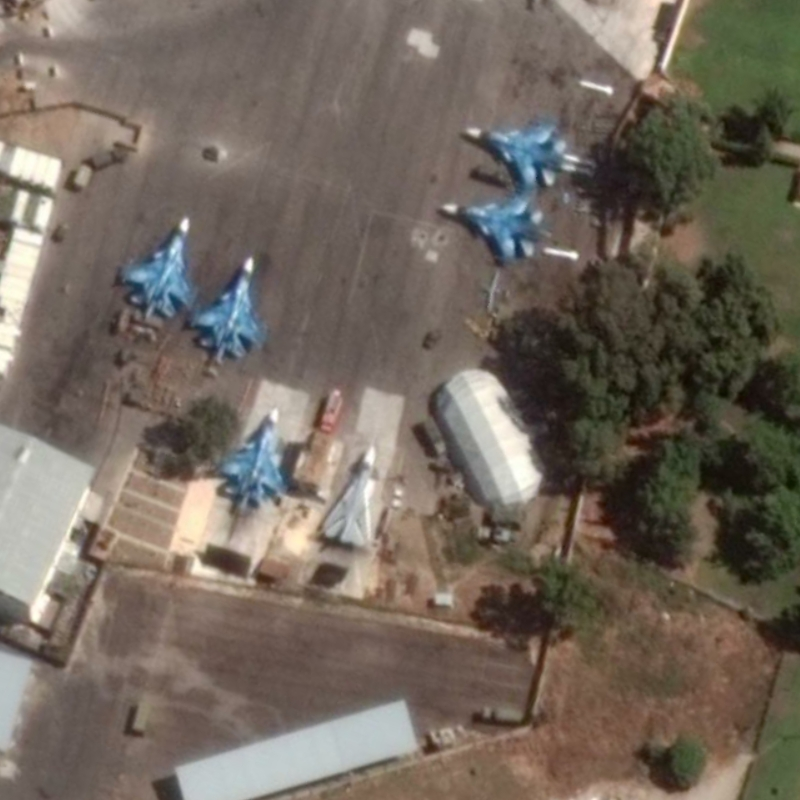A19: (187, 253, 270, 365), (462, 116, 581, 193), (118, 213, 201, 323), (438, 193, 552, 266), (216, 404, 293, 512)
A20: (317, 442, 377, 551)
